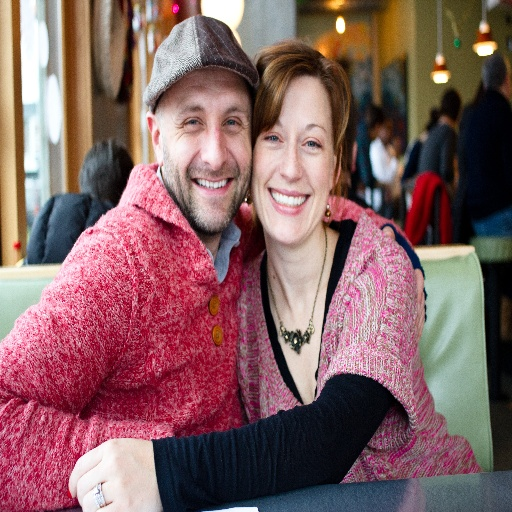hand: (57, 439, 172, 505), (379, 218, 426, 346)
